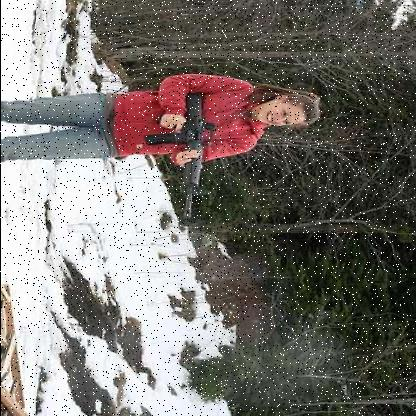rifle: (136, 76, 230, 231)
